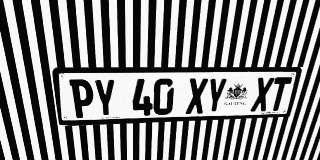0: (153, 78, 174, 115)
4: (132, 79, 153, 116)
P: (69, 79, 95, 118)
T: (267, 77, 292, 111)
X: (250, 77, 275, 112), (186, 78, 208, 114)
Y: (93, 79, 116, 117), (204, 78, 228, 113)
